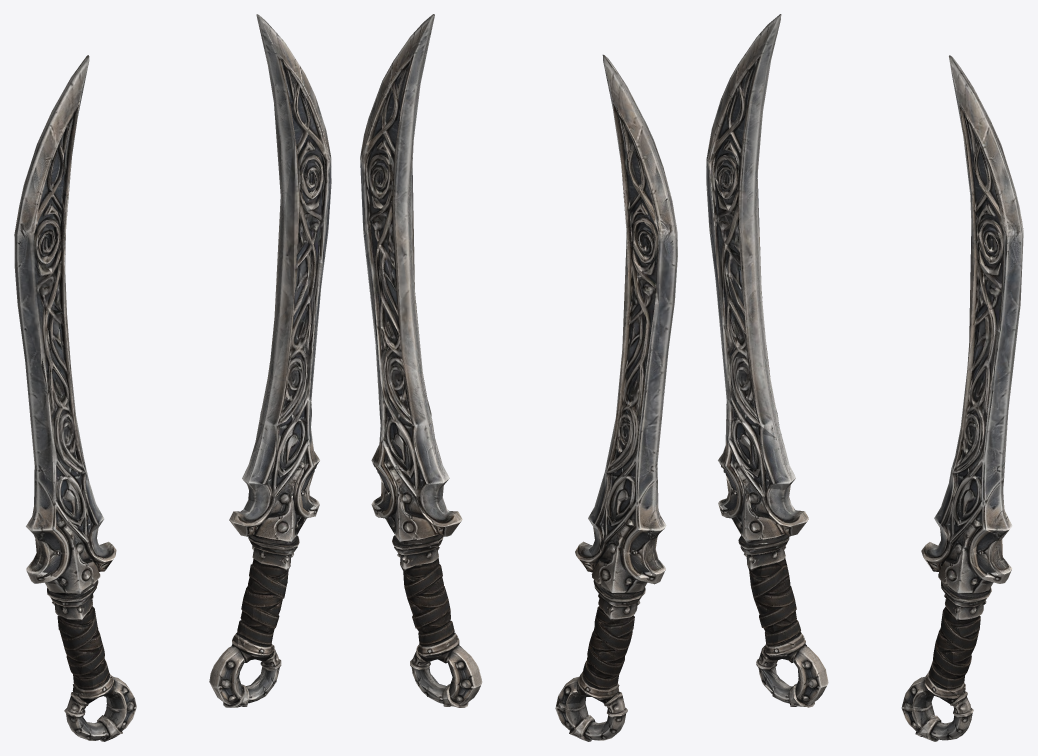
File: daggers.glb
3 renders of one model, left to right at view 1: azimuth 30°, elevation 25°; view 2: azimuth 150°, elevation 25°; view 3: azimuth 330°, elevation 25°, orthographic.
Visible parts, largest first — view 1: DaggerR, DaggerL; view 2: DaggerR, DaggerL; view 3: DaggerL, DaggerR.
Boxes of the visible parts, <box> form: DaggerR: <box>209,14,331,707</box>; DaggerL: <box>14,55,136,741</box>; DaggerR: <box>360,14,482,707</box>; DaggerL: <box>555,54,677,741</box>; DaggerL: <box>706,14,828,707</box>; DaggerR: <box>901,55,1023,741</box>.
Size of the model in its own units: 0.9088 by 1.9 by 0.1327.
Materials: 1 (1 with a texture image).
